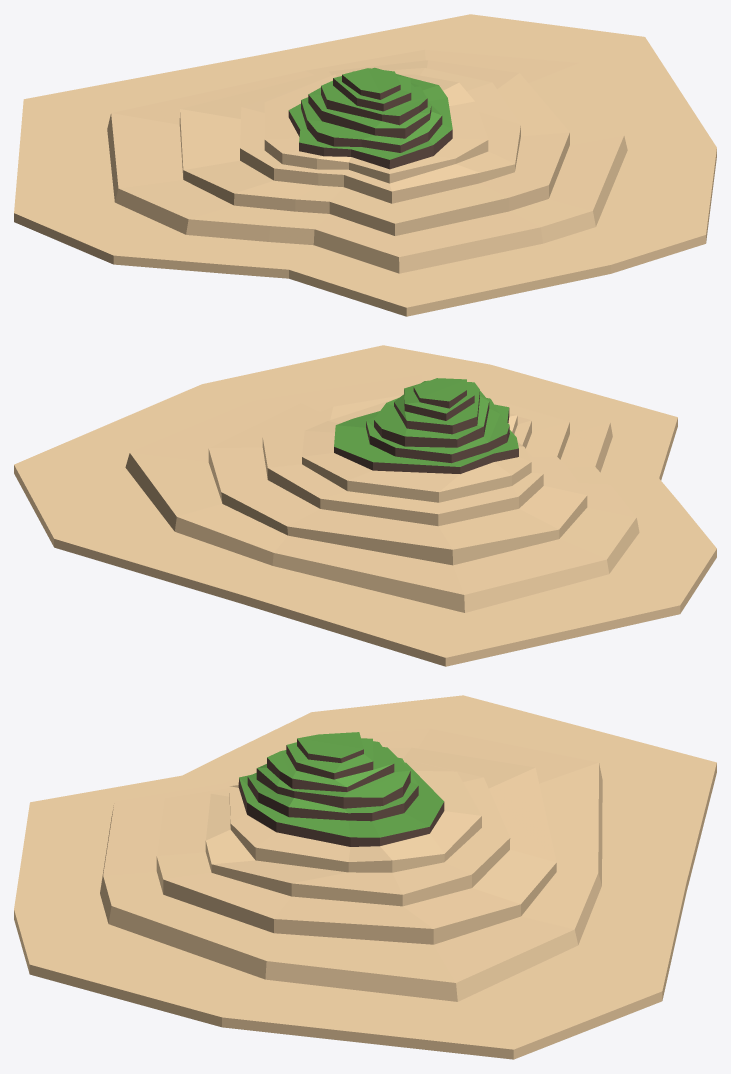
Rendered from is_6-_sablefbx.fbx.
3 views of the same model, one above another, from view 1: azimuth 30°, elevation 25°; view 2: azimuth 150°, elevation 25°; view 3: azimuth 270°, elevation 25° (orthographic). The views are drawn at different scales.
Parts seen in each view (by area): view 1: Plan.001; view 2: Plan.001; view 3: Plan.001.
Part boxes in pixels (left/top/right/bottom): Plan.001: left=14, top=14, right=716, bottom=316; Plan.001: left=14, top=345, right=716, bottom=666; Plan.001: left=14, top=695, right=716, bottom=1059.
Size of the model in its own units: 2045 by 338 by 1715.
